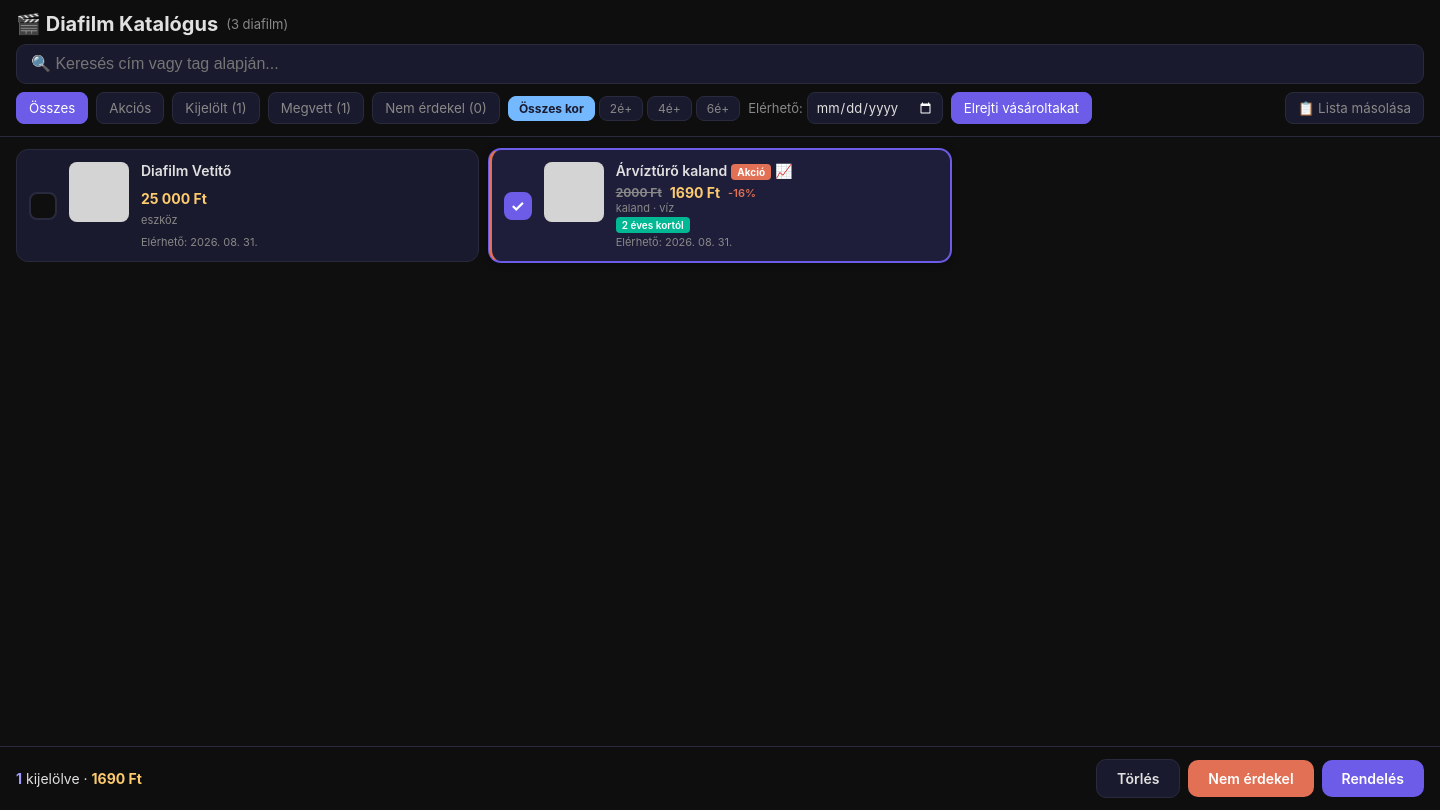
Test: App Integration › filtering by Akciós shows only sale items
Click the button "Akciós" at (130,108), box 96,92 -> 164,124
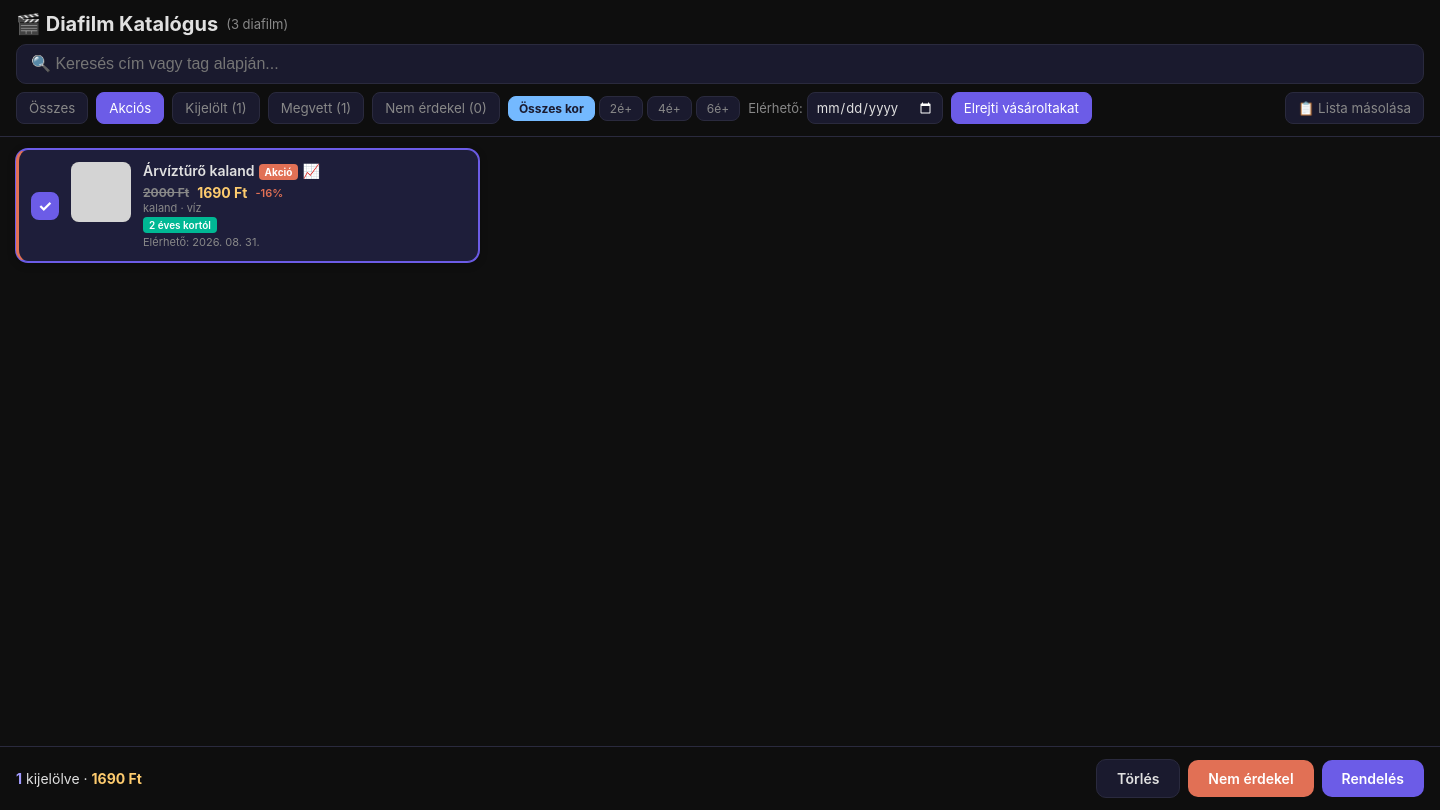
Expected: the element with test id "product-card" shows "Árvíztűrő kaland", 71,162 -> 466,249
Expected: the number of elements with test id "product-card" is 1, 16,149 -> 479,262
